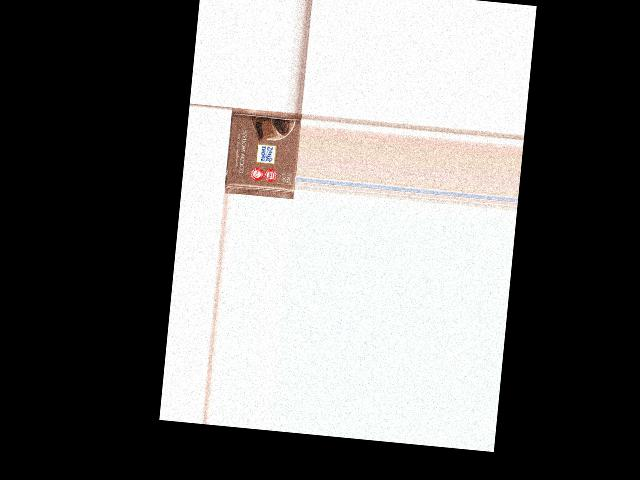chocolate: (223, 107, 301, 198)
